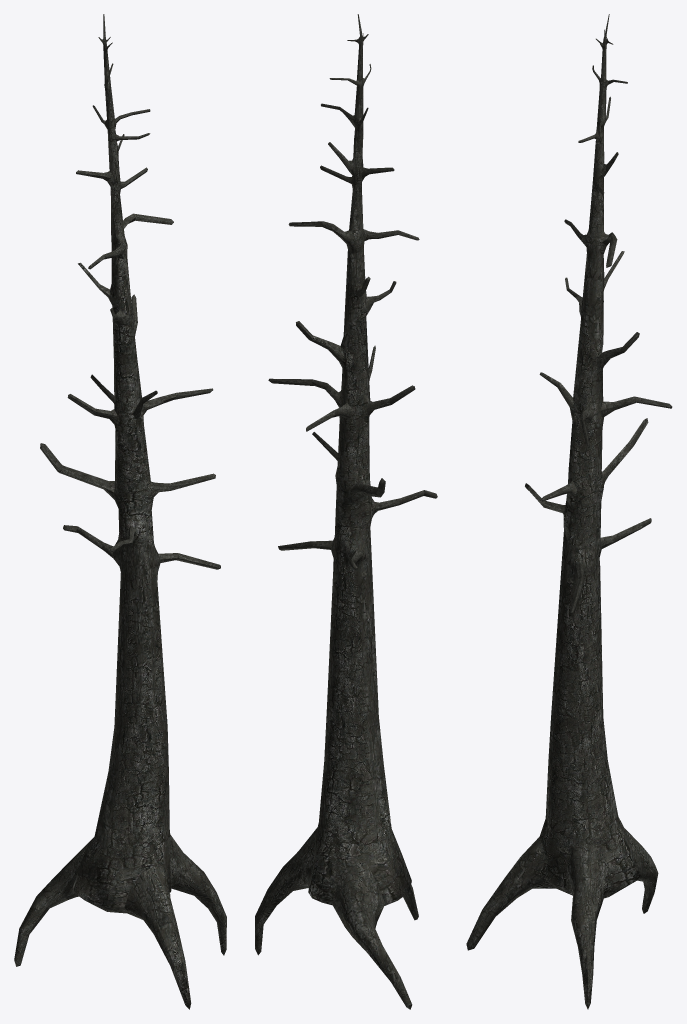
Rendered from DeadTree03.FBX.
3 views of the same model, side by side, from view 1: azimuth 30°, elevation 25°; view 2: azimuth 150°, elevation 25°; view 3: azimuth 270°, elevation 25° (orthographic). The views are drawn at different scales.
Parts seen in each view (by area): view 1: TreeDead03:0; view 2: TreeDead03:0; view 3: TreeDead03:0.
Part boxes in pixels (left/top/right/bottom): TreeDead03:0: left=14, top=14, right=226, bottom=1009; TreeDead03:0: left=255, top=14, right=437, bottom=1009; TreeDead03:0: left=466, top=14, right=672, bottom=1009.
Bounding box in the file's own units: 1.58 × 7.94 × 1.57.
